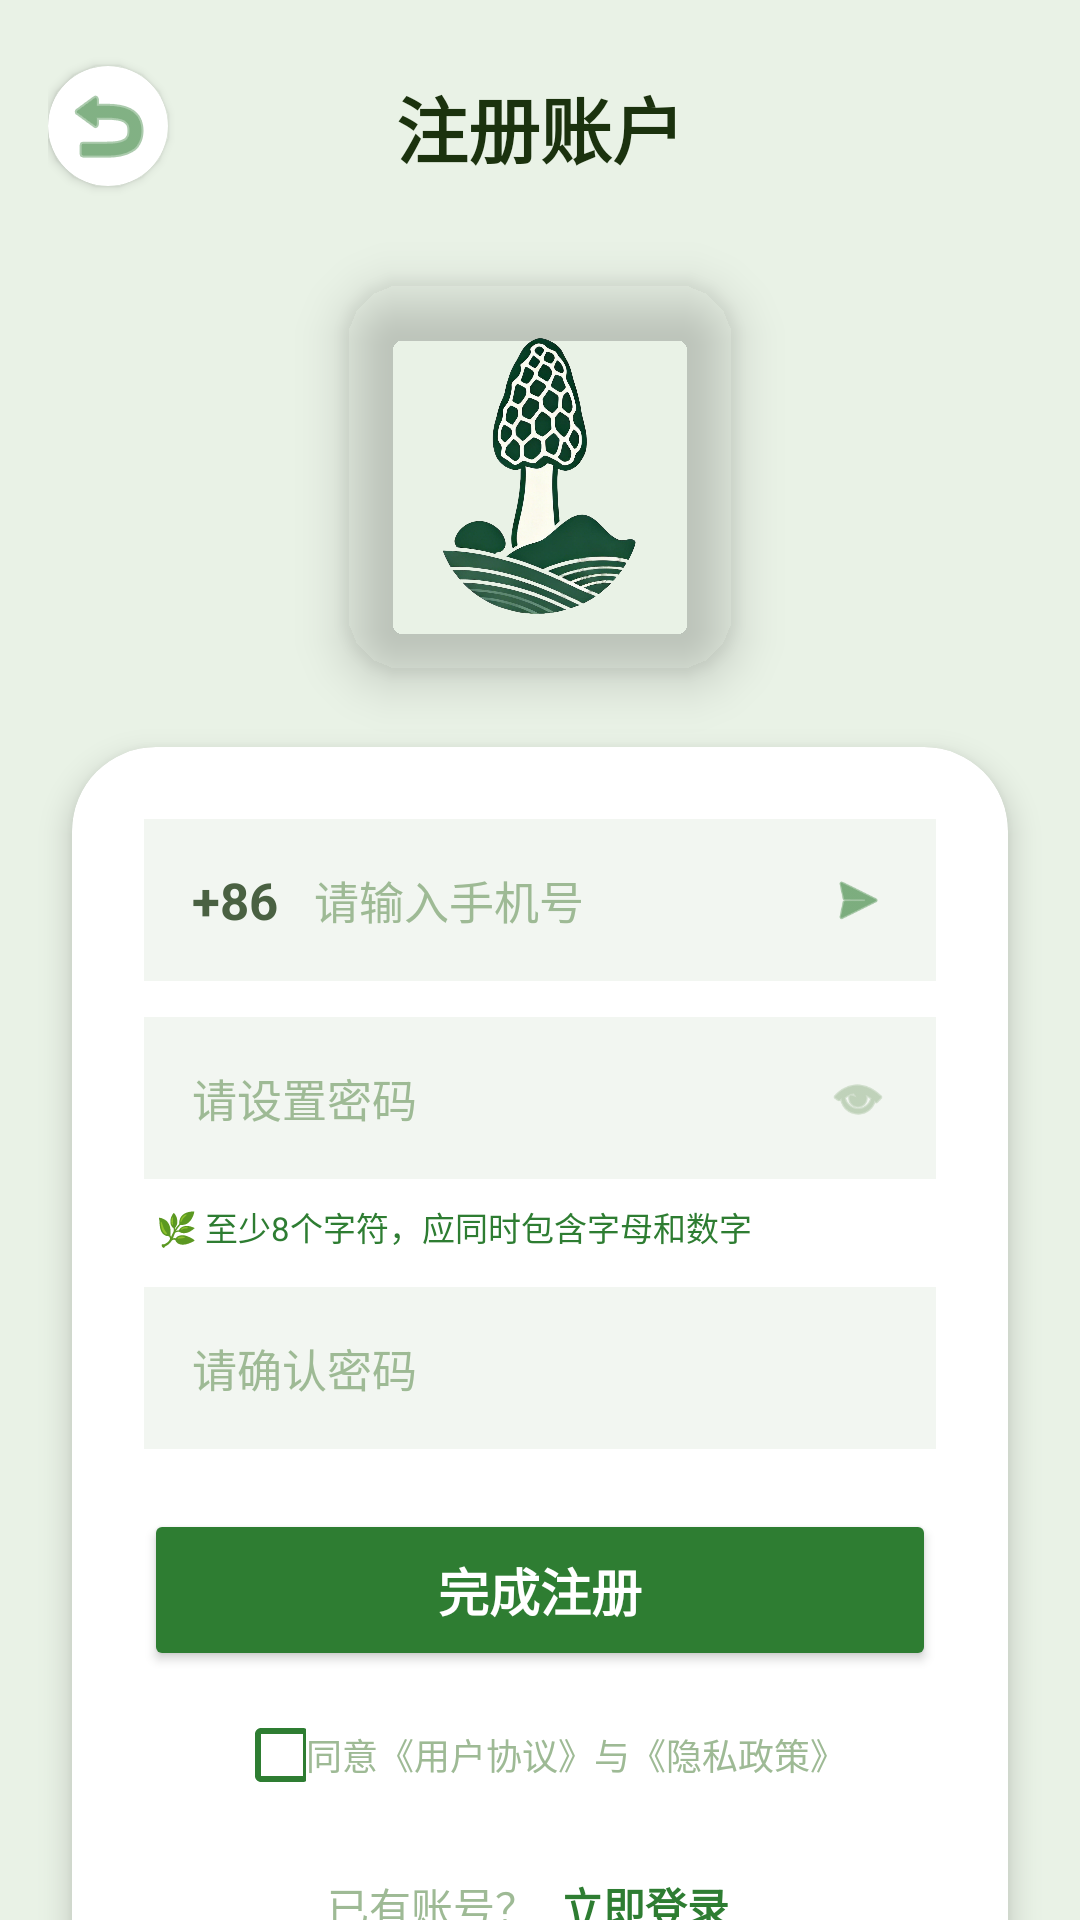

Locate icon controls on the screen. Image size 1080*1920, boxes as (x1, y1, x2, y2).
revert: (48, 66, 167, 186)
send: (839, 881, 878, 919)
view: (834, 1084, 882, 1115)
